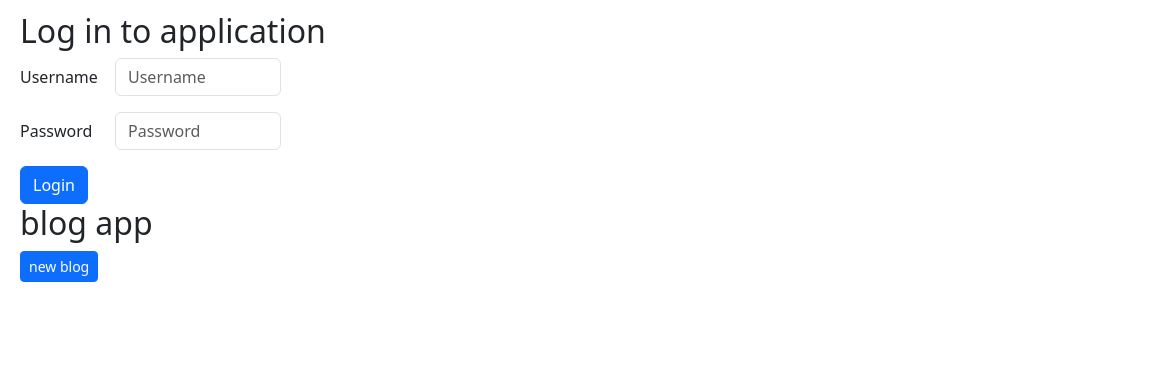
Test: Blog app › Login › fails with wrong credentials
Type "root" into the field with placeholder "Username".
click(198, 77); type("root")  # box [115,58,281,96]
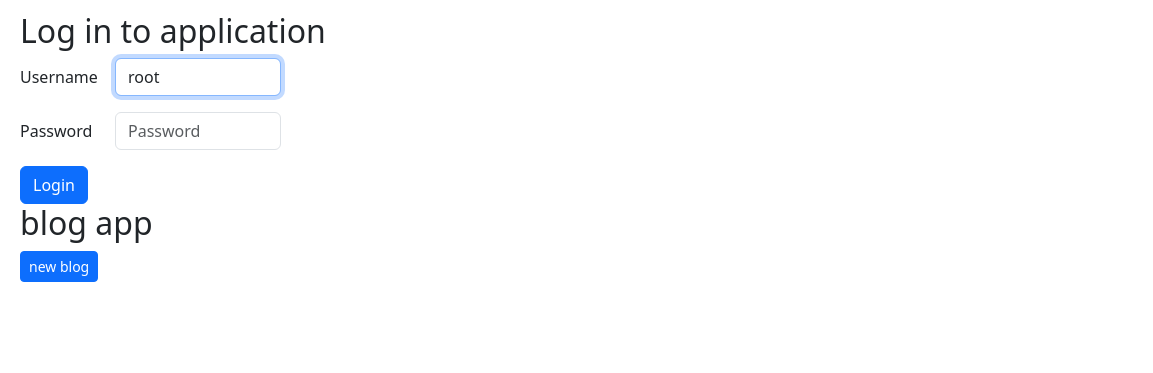
Type "wrong" into the password field with placeholder "Password".
click(198, 131); type("wrong")  # box [115,112,281,150]
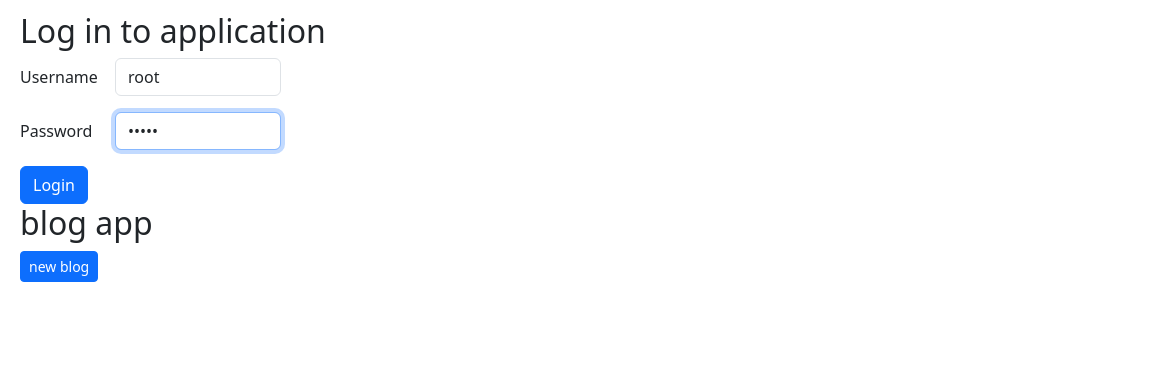
Click the button "Login".
click(54, 185)  # box [20,166,88,204]
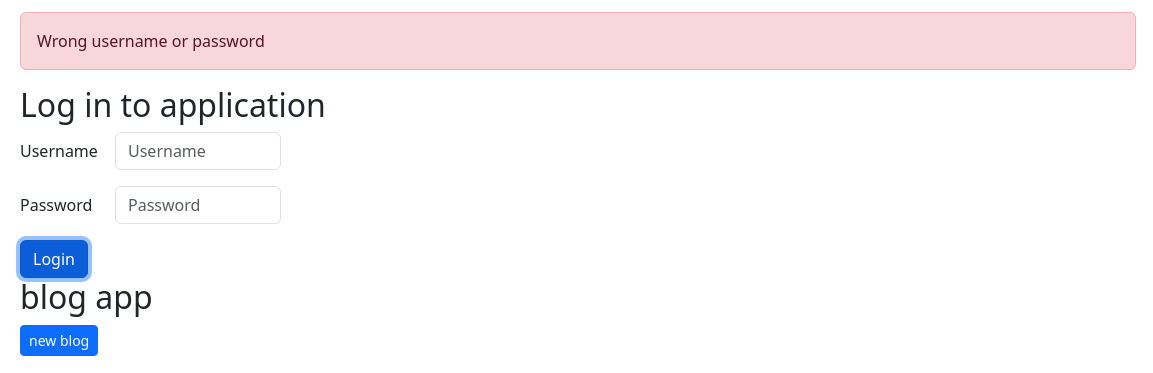
Result: the text "Wrong username or password" is shown at [20,12,1136,70]
